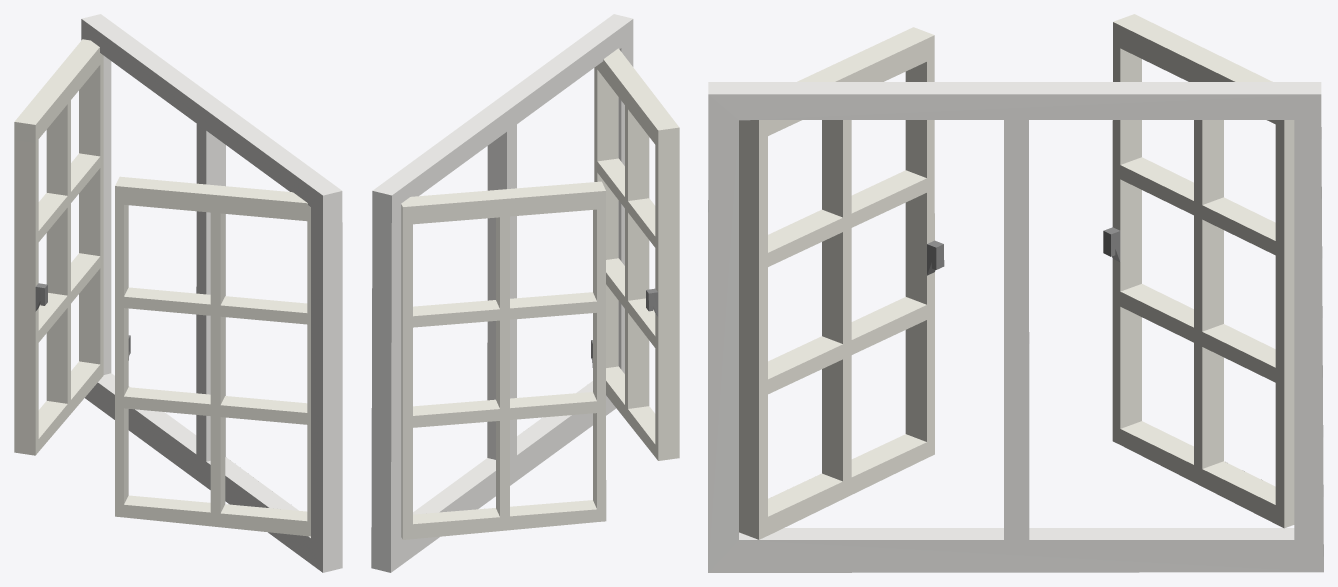
The model's file is Window_Both_Half_Open.fbx.
The picture shows the model from 3 angles, left to right: view 1: azimuth 30°, elevation 25°; view 2: azimuth 150°, elevation 25°; view 3: azimuth 270°, elevation 25°; orthographic projection. The views are drawn at different scales.
Parts seen in each view (by area): view 1: polySurface5; view 2: polySurface5; view 3: polySurface5.
Boxes of the visible parts, x1=… form: polySurface5: x1=14, y1=14, x2=342, y2=572; polySurface5: x1=371, y1=14, x2=679, y2=572; polySurface5: x1=708, y1=14, x2=1323, y2=572.
Bounding box in the file's own units: 8.23 × 18.51 × 21.58.
